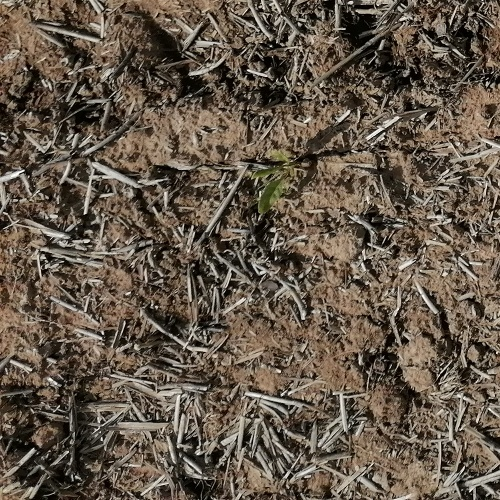beet: (251, 151, 299, 218)
